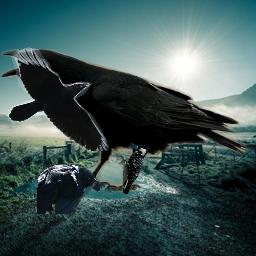Crow: (1, 49, 248, 194), (8, 47, 109, 151), (37, 164, 102, 214)
Woodpecker: (119, 143, 149, 194)
